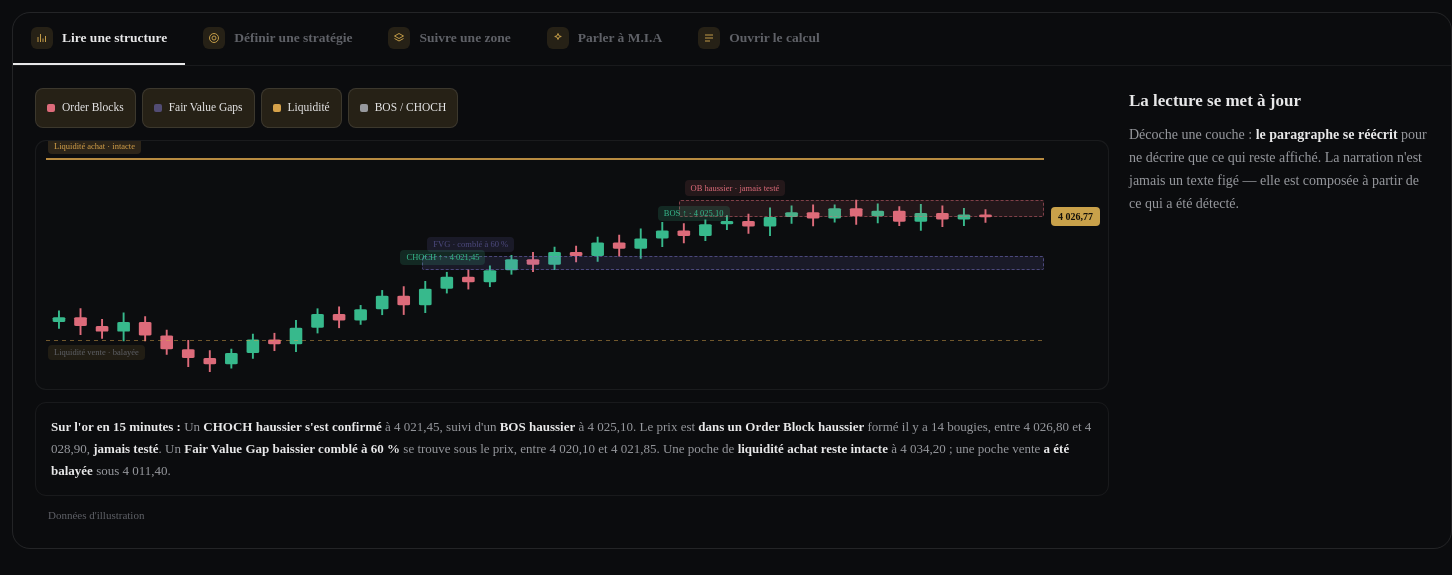
LP-1 home — the M.I.A tab talks to the real agent › a starter is sent to the agent and its real answer is shown
Click the tab "Parler à M.I.A" at (605, 39), box 529,13 -> 680,65
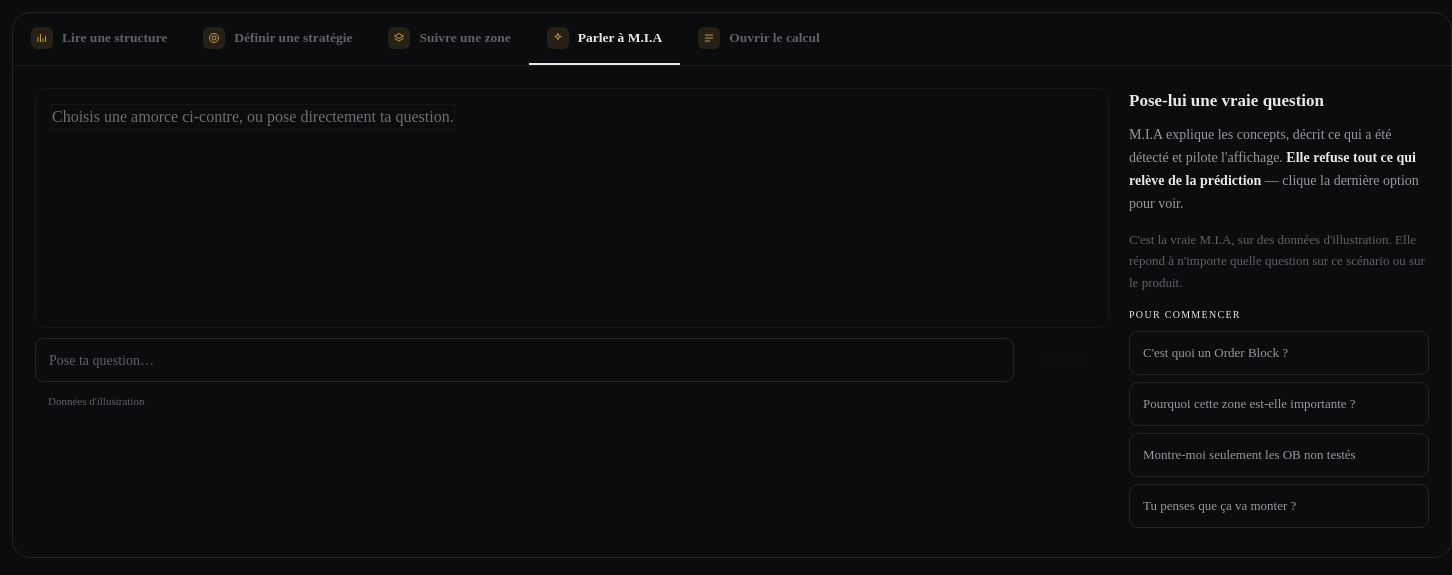
Click the button "Montre-moi seulement les OB non testés" at (1279, 455), box 1129,433 -> 1429,477
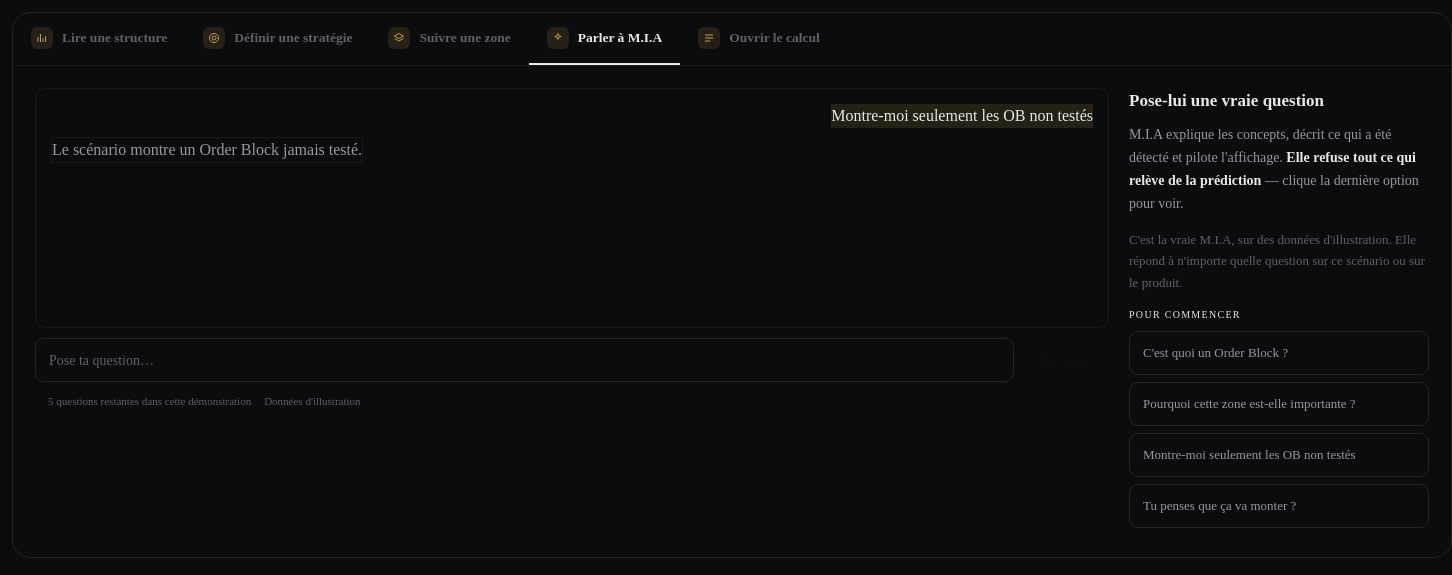
Now the text "Le scénario montre un Order Block jamais testé." is shown, box 51,137 -> 363,163
Now the text "Montre-moi seulement les OB non testés" is shown, box 831,104 -> 1093,128
Now the text "5 questions restantes dans cette démonstration" is shown, box 35,393 -> 251,410
